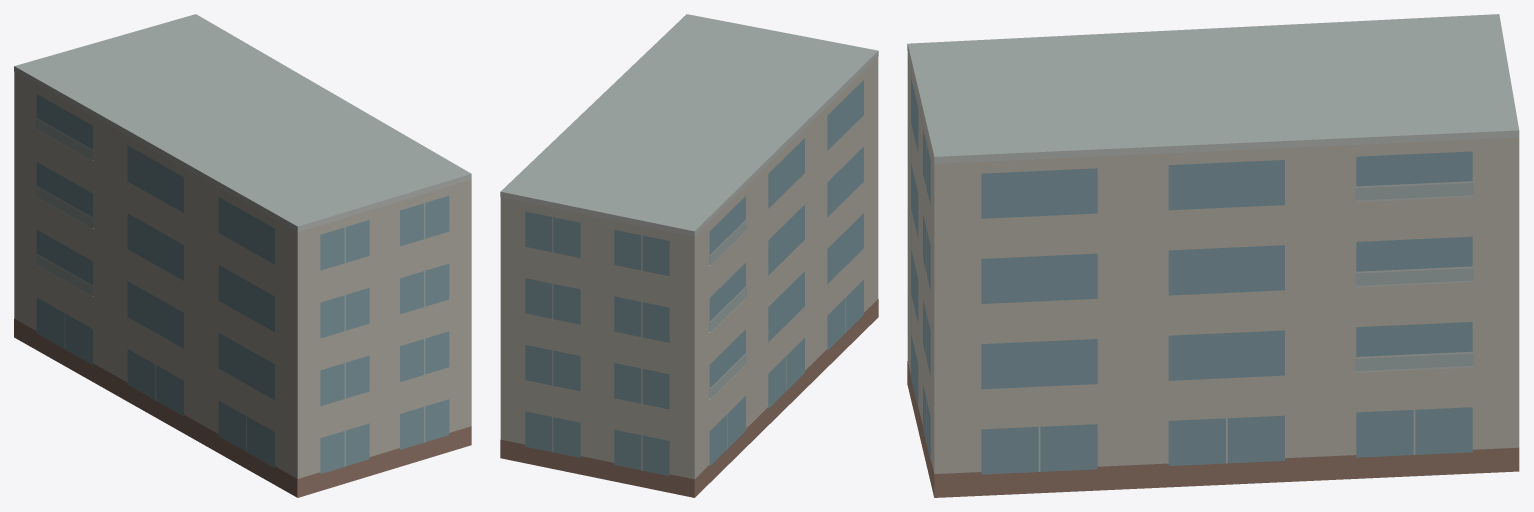
The model's file is survey-upis-32886598.glb.
3 renders of one model, left to right at view 1: azimuth 30°, elevation 25°; view 2: azimuth 150°, elevation 25°; view 3: azimuth 270°, elevation 25°, orthographic. The views are drawn at different scales.
Visible parts, largest first — view 1: survey-upis-32886598.tmp; view 2: survey-upis-32886598.tmp; view 3: survey-upis-32886598.tmp.
Boxes of the visible parts, x1=… form: survey-upis-32886598.tmp: x1=14, y1=14, x2=471, y2=497; survey-upis-32886598.tmp: x1=500, y1=14, x2=878, y2=497; survey-upis-32886598.tmp: x1=907, y1=14, x2=1519, y2=497.
Size of the model in its own units: 10.52 by 11.7 by 19.03.
